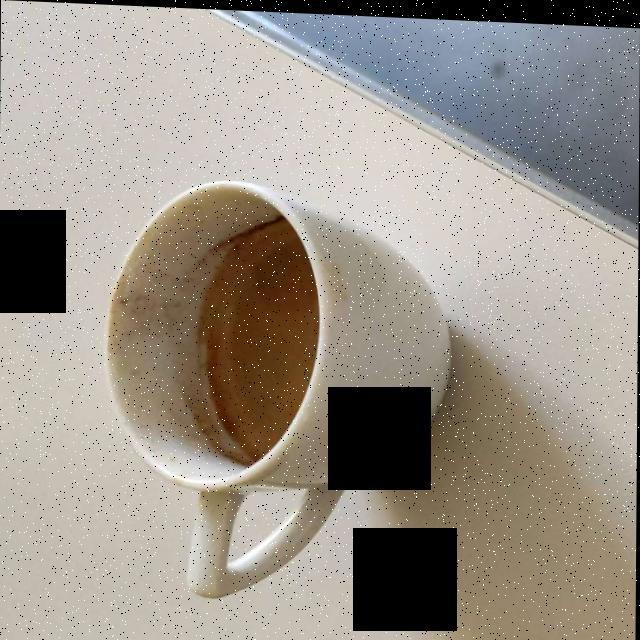coffee: (196, 218, 316, 455)
